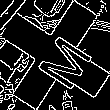M_NW: (21, 22, 89, 88)
